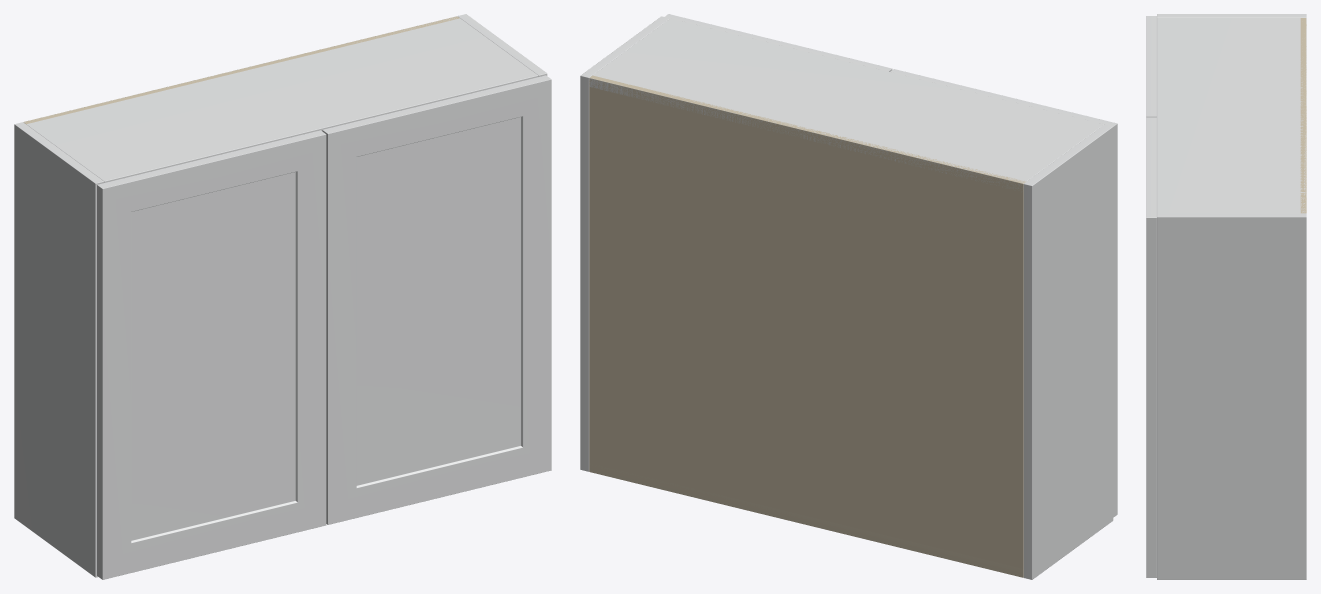
Rendered from PLY-WSS-W3630.glb.
3 views of the same model, side by side, from view 1: azimuth 30°, elevation 25°; view 2: azimuth 150°, elevation 25°; view 3: azimuth 270°, elevation 25° (orthographic). The views are drawn at different scales.
Visible parts, largest first — view 1: Shaker door, Shaker door.001, Carcass top, Carcass left, Carcass back, Carcass right; view 2: Carcass back, Carcass left, Carcass top, Carcass right, Carcass bottom, Shaker door, Shaker door.001; view 3: Carcass right, Carcass top, Shaker door.001, Carcass back, Shaker door, Carcass left.
Boxes of the visible parts, left/top/right/bottom form: Shaker door: left=97, top=130, right=326, bottom=579; Shaker door.001: left=322, top=75, right=551, bottom=524; Carcass top: left=24, top=16, right=538, bottom=182; Carcass left: left=14, top=122, right=104, bottom=577; Carcass back: left=23, top=16, right=459, bottom=124; Carcass right: left=458, top=14, right=547, bottom=76; Carcass back: left=589, top=75, right=1026, bottom=577; Carcass left: left=1023, top=124, right=1113, bottom=579; Carcass top: left=589, top=18, right=1103, bottom=188; Carcass right: left=580, top=16, right=669, bottom=471; Carcass bottom: left=589, top=463, right=1023, bottom=577; Shaker door: left=890, top=69, right=1117, bottom=517; Shaker door.001: left=665, top=14, right=892, bottom=71; Carcass right: left=1157, top=213, right=1306, bottom=579; Carcass top: left=1157, top=18, right=1306, bottom=213; Shaker door.001: left=1146, top=117, right=1156, bottom=577; Carcass back: left=1300, top=18, right=1306, bottom=213; Shaker door: left=1146, top=16, right=1156, bottom=117; Carcass left: left=1157, top=14, right=1306, bottom=17.
Size of the model in its own units: 0.9144 by 0.762 by 0.3048.
